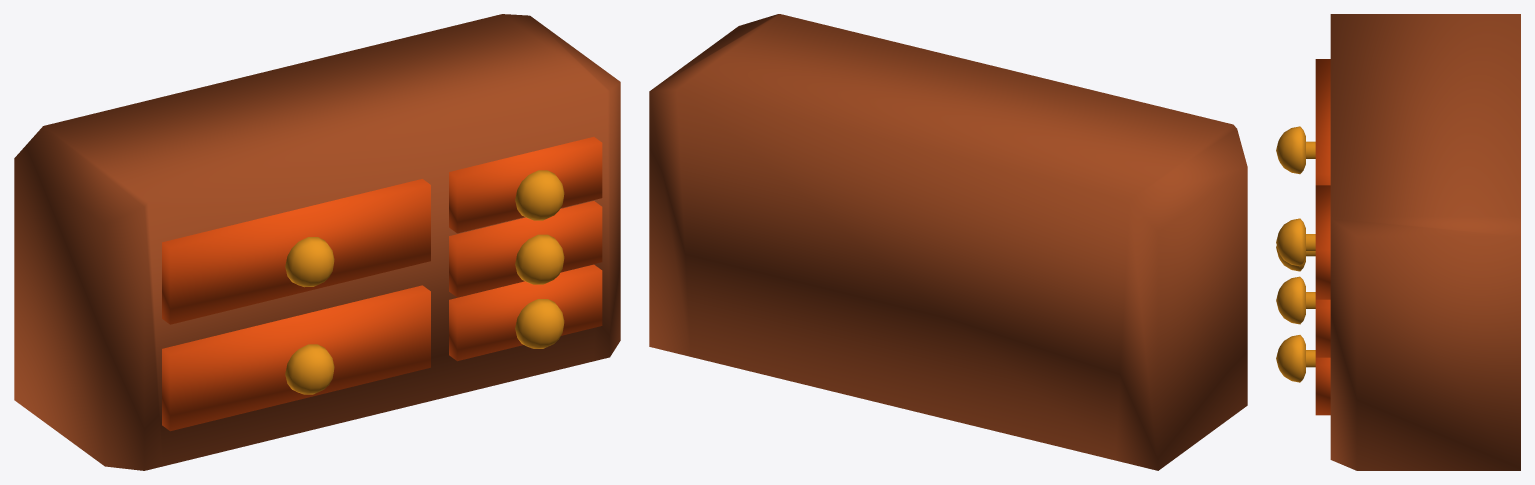
Rendered from movel.fbx.
3 views of the same model, side by side, from view 1: azimuth 30°, elevation 25°; view 2: azimuth 150°, elevation 25°; view 3: azimuth 270°, elevation 25° (orthographic). The views are drawn at different scales.
Parts seen in each view (by area): view 1: Movel; view 2: Movel; view 3: Movel.
Part boxes in pixels (bbox=[...]): Movel: bbox=[14, 14, 620, 470]; Movel: bbox=[649, 14, 1247, 470]; Movel: bbox=[1276, 14, 1520, 470].
Size of the model in its own units: 1205 by 596 by 547.
